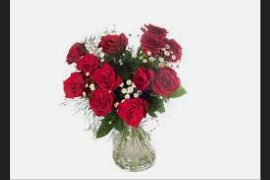RedRose: (152, 64, 184, 102), (115, 98, 146, 127), (88, 88, 116, 120), (92, 62, 122, 90), (97, 29, 128, 56), (140, 27, 162, 58), (159, 37, 187, 61), (64, 72, 87, 101), (78, 51, 103, 75), (62, 39, 84, 66), (133, 65, 152, 94)
